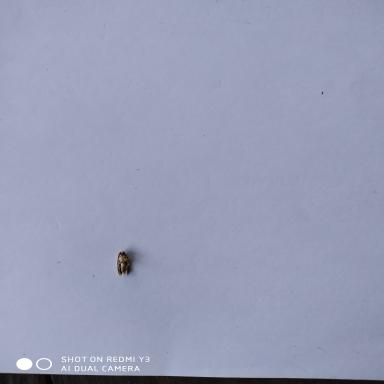pbw: (112, 251, 134, 275)
